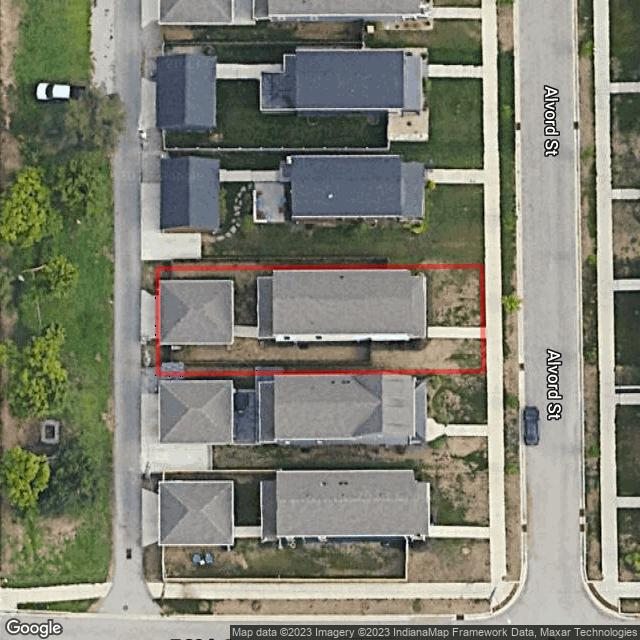Driveway: (0, 0, 122, 587), (428, 326, 481, 339), (234, 326, 258, 338)
Extra Driveway: (140, 290, 155, 345)
Extra Lawn: (141, 265, 156, 296), (140, 338, 155, 368)
Extra Sidewalk: (141, 368, 155, 378)
House: (258, 270, 426, 341)
Other: (161, 280, 234, 345), (161, 361, 185, 371), (171, 346, 181, 351)
